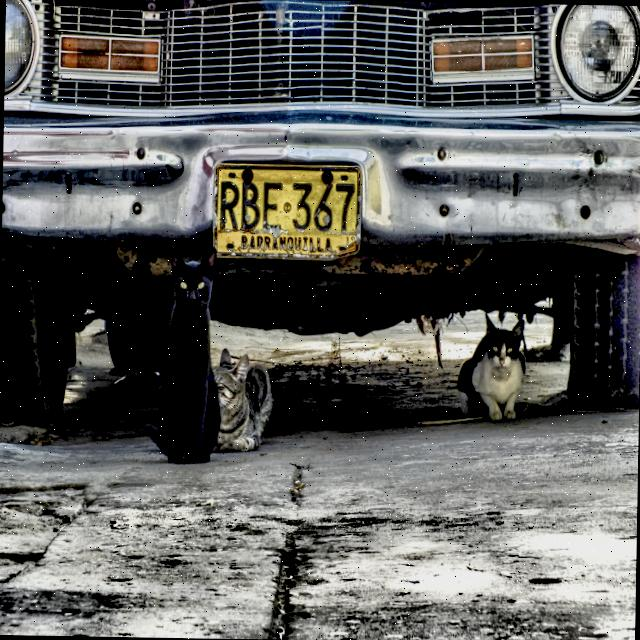3: (290, 182, 312, 230)
6: (313, 182, 334, 232)
7: (334, 182, 356, 232)
B: (240, 180, 262, 231)
E: (261, 180, 283, 232)
R: (218, 180, 240, 231)
